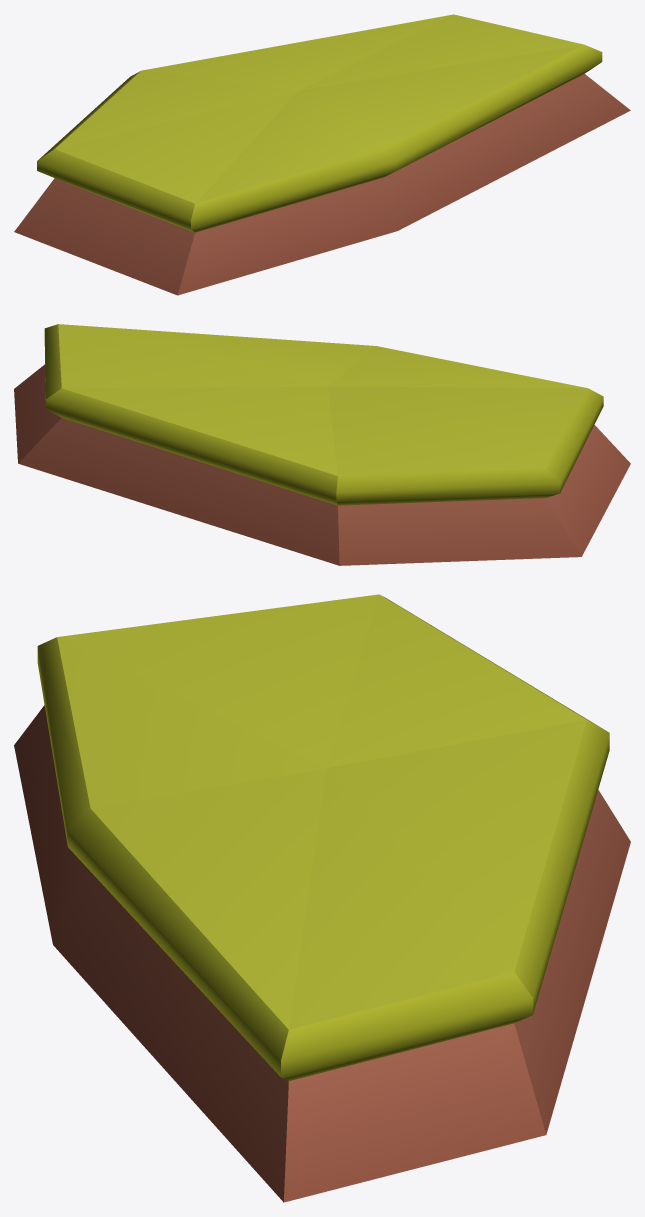
Rendered from CONTEXT_ONLY_KAYKIT_HILL.glb.
3 renders of one model, top to bottom at view 1: azimuth 30°, elevation 25°; view 2: azimuth 150°, elevation 25°; view 3: azimuth 270°, elevation 25°, orthographic. The views are drawn at different scales.
Visible parts, largest first — view 1: CTX_REAL_KAYKIT_HILL_hill_single_A; view 2: CTX_REAL_KAYKIT_HILL_hill_single_A; view 3: CTX_REAL_KAYKIT_HILL_hill_single_A.
Part boxes in pixels (x1=…): CTX_REAL_KAYKIT_HILL_hill_single_A: x1=14, y1=14, x2=630, y2=295; CTX_REAL_KAYKIT_HILL_hill_single_A: x1=14, y1=324, x2=630, y2=565; CTX_REAL_KAYKIT_HILL_hill_single_A: x1=14, y1=594, x2=630, y2=1202.
Size of the model in its own units: 35 by 5.08 by 18.
1 material, 1 textured.
